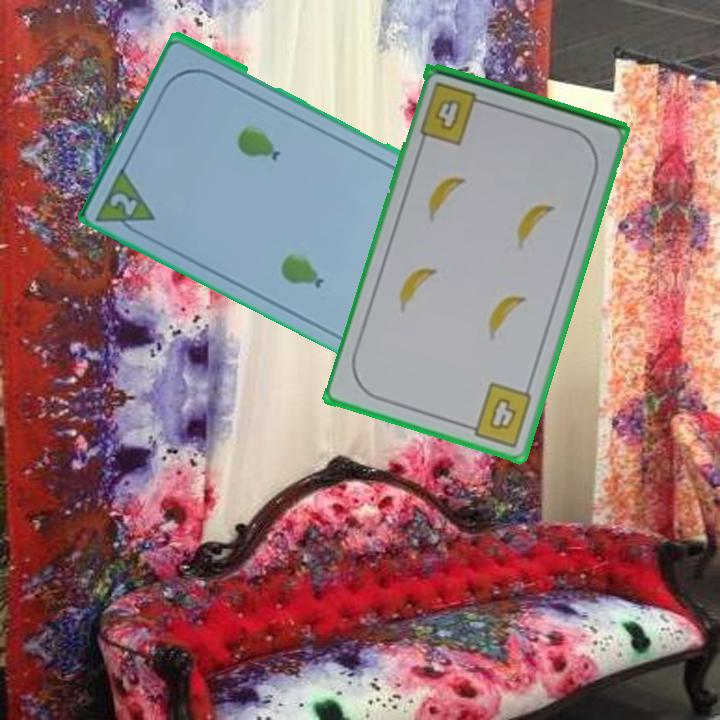2p: (106, 188, 142, 218)
4b: (460, 379, 536, 450), (416, 78, 491, 148)
